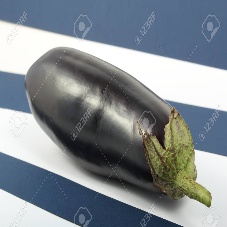eggplant: (26, 45, 188, 200)
